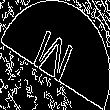M_SW: (31, 22, 79, 88)
